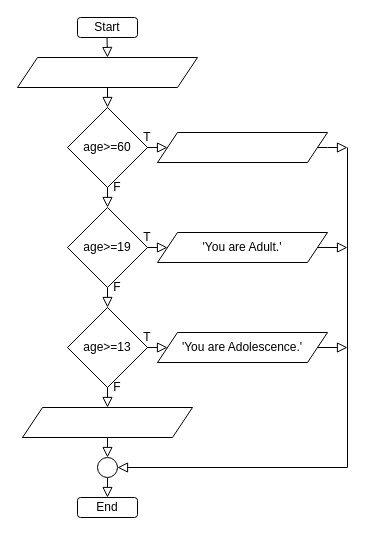
Some shapes in this 375 by 535 pixel diagram are drawn without their labels. Here are the shapes that lost their labels. From the top down, the centre of each, then its label:
[107,72]: age=input('Enter your age:')
[242,147]: 'You are Senoir Adult.'
[107,422]: 'You are Child.'
